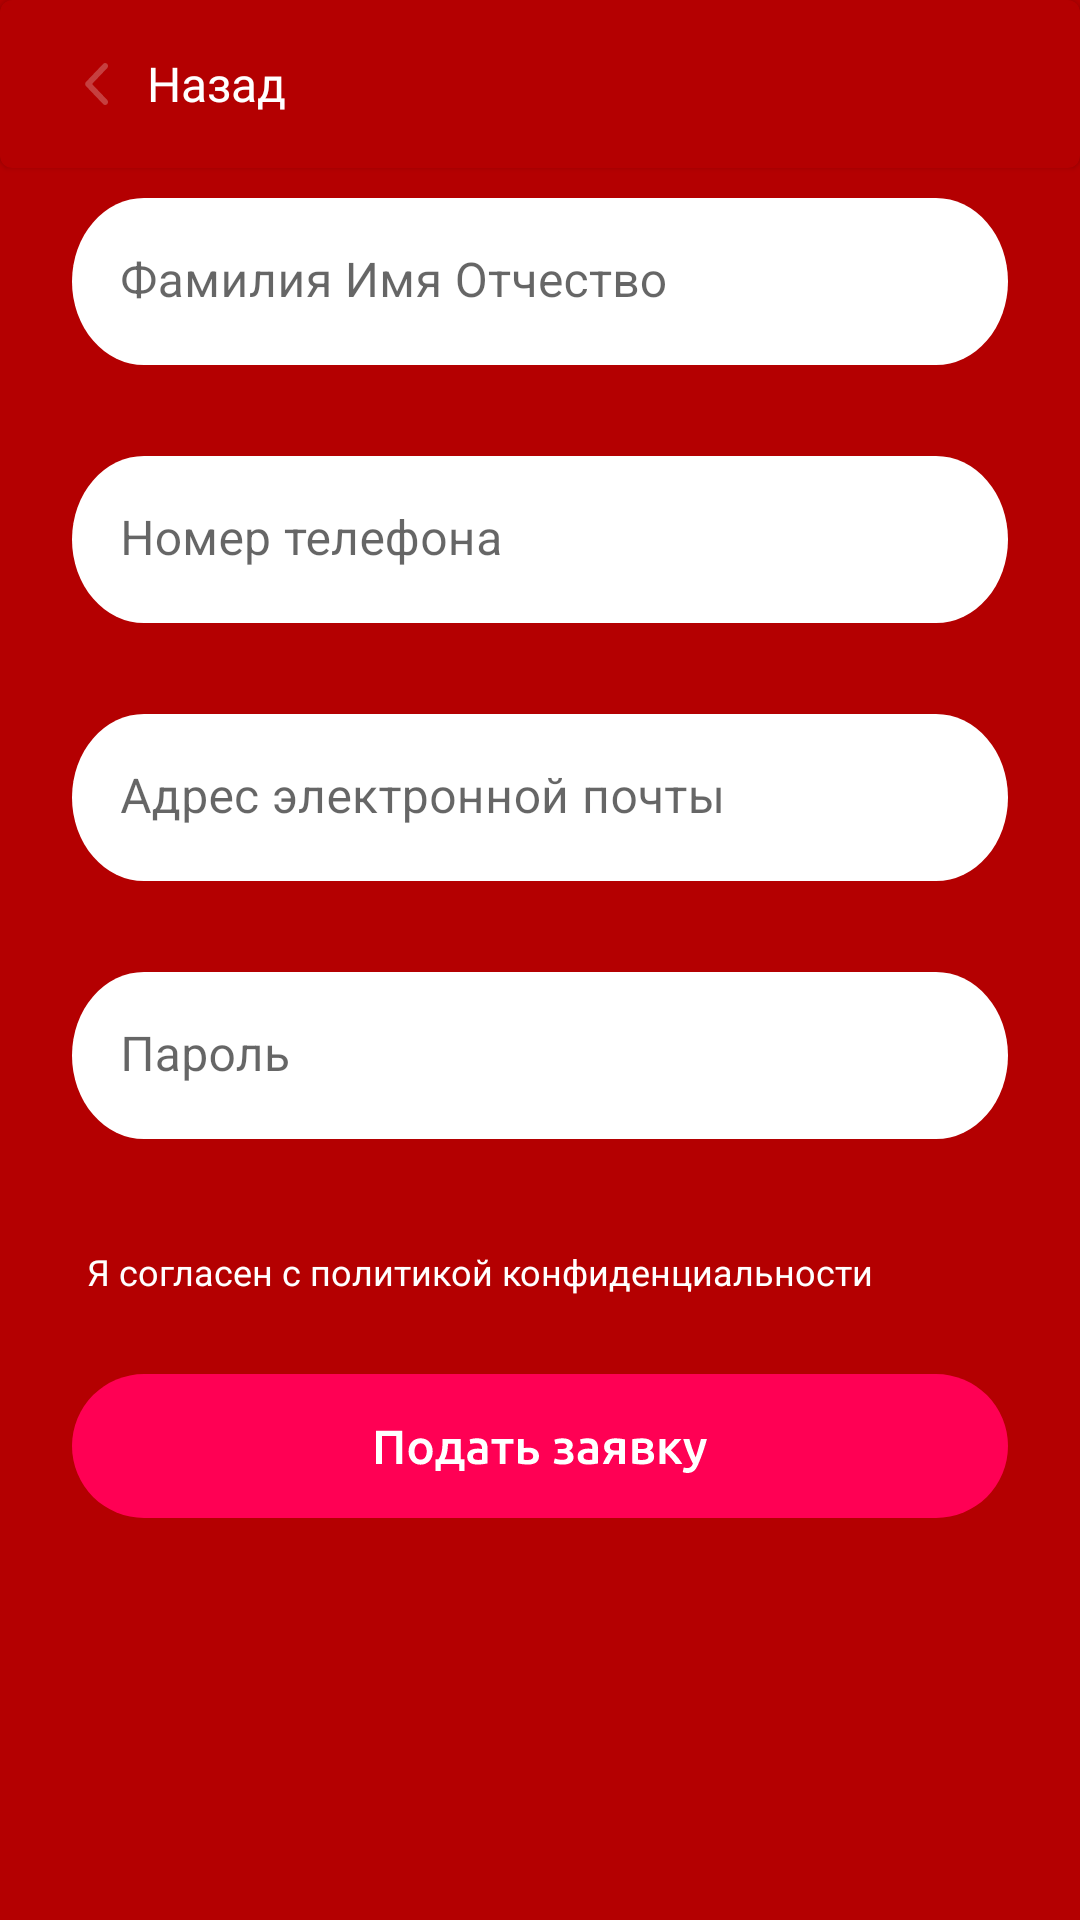

Named icons in this screenshot (1080w x 1920h) and their centers, (x=x, y=y):
back: (x=96, y=84)
